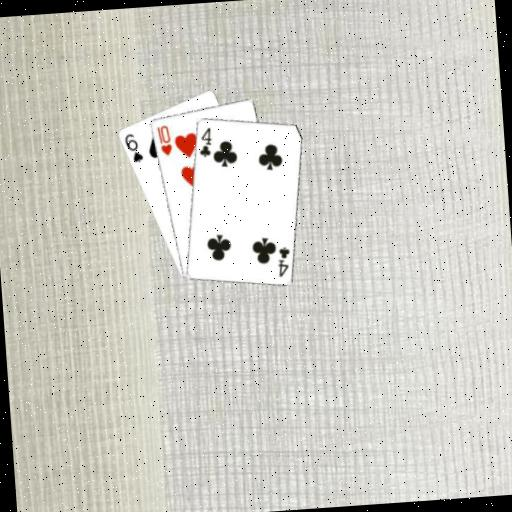10H: (153, 122, 173, 158)
4C: (195, 124, 214, 159), (274, 243, 293, 278)
6S: (121, 130, 145, 165)
